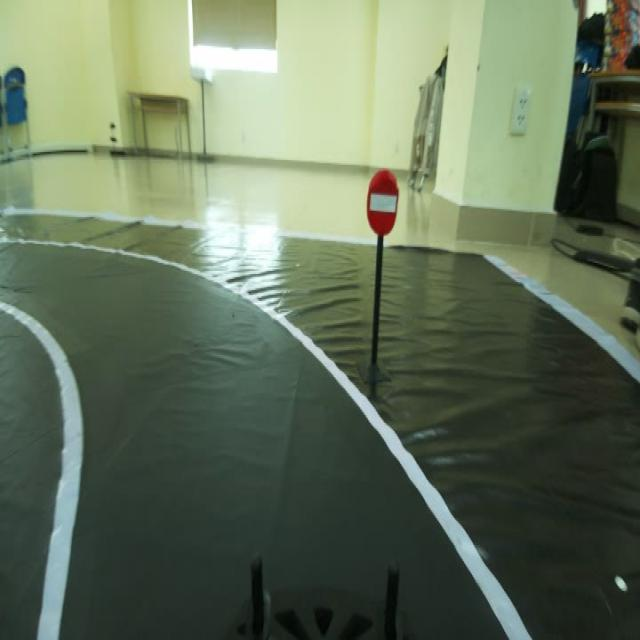no_entry: (361, 154, 409, 250)
